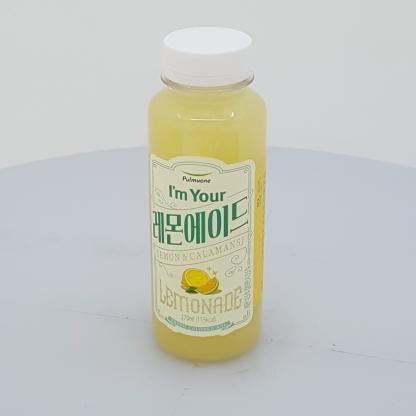----------------270ML: (147, 27, 267, 363)
